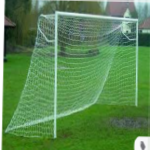goals: (6, 9, 141, 138)
